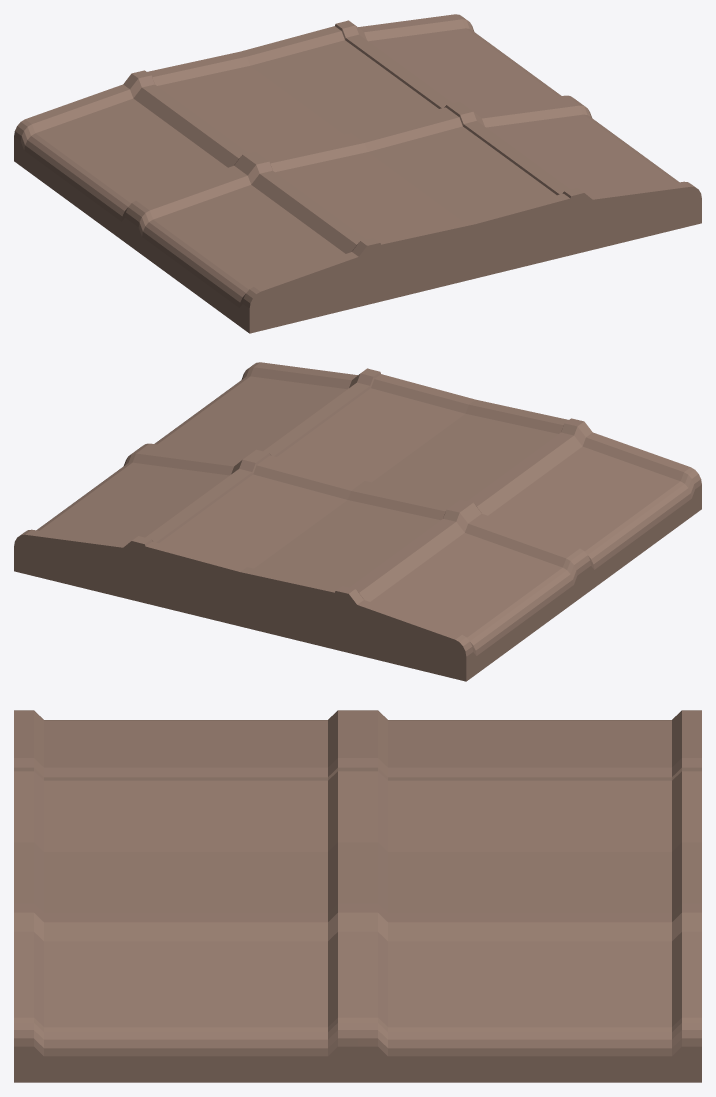
File: Rail Base.fbx
3 views of the same model, one above another, from view 1: azimuth 30°, elevation 25°; view 2: azimuth 150°, elevation 25°; view 3: azimuth 270°, elevation 25° (orthographic). The views are drawn at different scales.
Visible parts, largest first — view 1: Plane; view 2: Plane; view 3: Plane.
Boxes of the visible parts, x1,y1,x2,y2 form: Plane: (14, 14, 701, 333); Plane: (14, 362, 701, 681); Plane: (14, 710, 701, 1082).
Size of the model in its own units: 1000 by 125 by 902.
